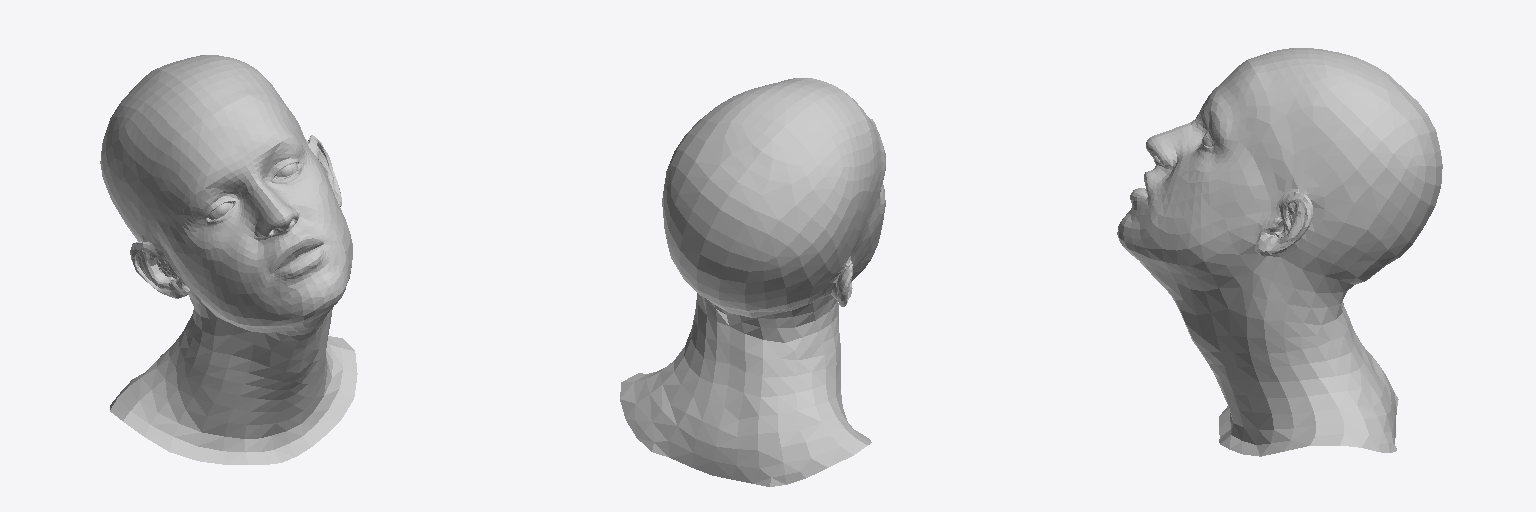
File: base_model_original.obj
3 renders of one model, left to right at view 1: azimuth 30°, elevation 25°; view 2: azimuth 150°, elevation 25°; view 3: azimuth 270°, elevation 25°, orthographic.
Parts seen in each view (by area): view 1: base_model; view 2: base_model; view 3: base_model.
Boxes of the visible parts, x1=… form: base_model: x1=100, y1=55, x2=357, y2=464; base_model: x1=620, y1=78, x2=885, y2=486; base_model: x1=1117, y1=48, x2=1442, y2=456.
Bounding box in the file's own units: 0.2215 × 0.3339 × 0.2678.